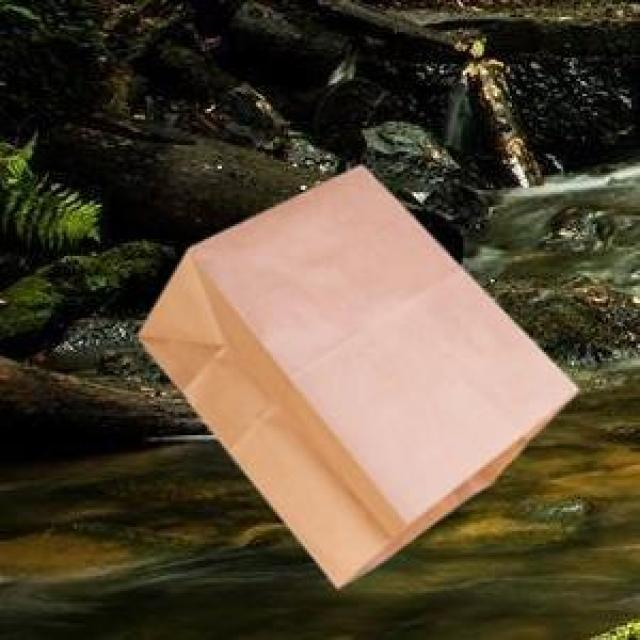paper: (134, 162, 574, 582)
